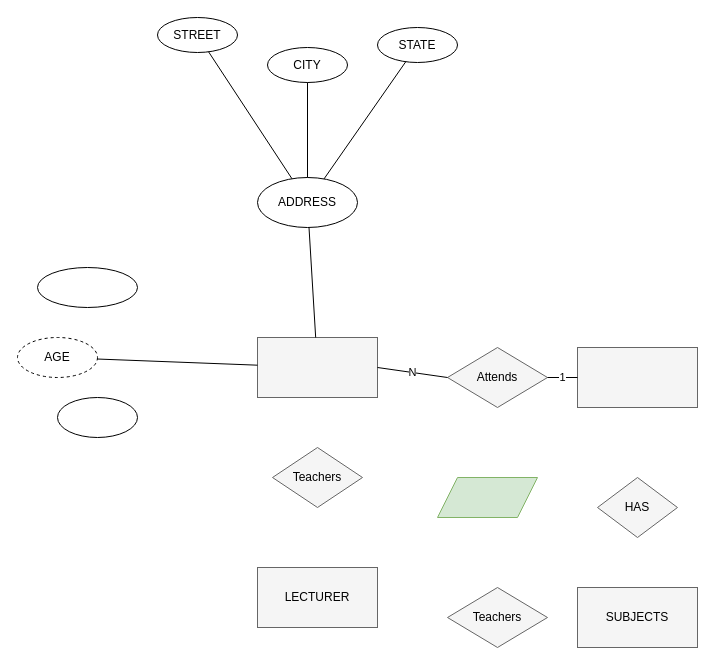
Some shapes in this 715 by 665 pixel diagram are drawn without their labels. Here are the shapes that lost their labels. From the top down, the box of each, then its label:
(36, 266, 138, 308): STUDENT_ID
(256, 336, 378, 398): STUDENT
(576, 346, 698, 408): COURSE
(56, 396, 138, 438): HOBBY
(436, 476, 538, 518): Takes
